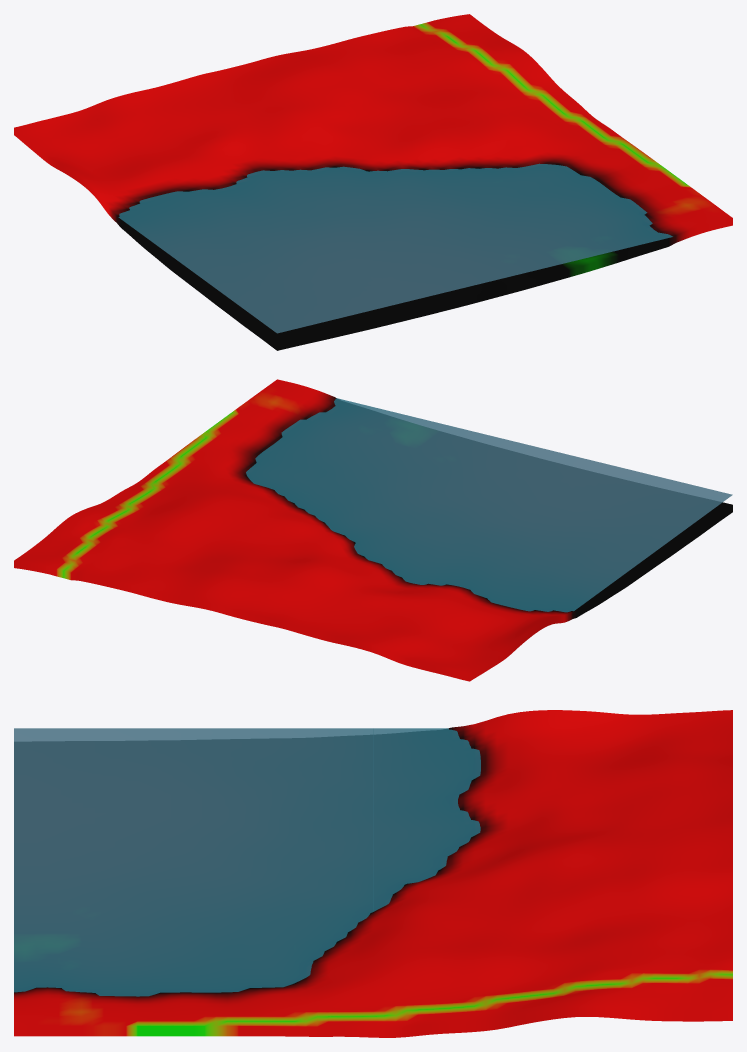
File: chunk_2_5.glb
3 views of the same model, one above another, from view 1: azimuth 30°, elevation 25°; view 2: azimuth 150°, elevation 25°; view 3: azimuth 270°, elevation 25° (orthographic). The views are drawn at different scales.
Visible parts, largest first — view 1: LOD0, Water; view 2: LOD0, Water; view 3: LOD0, Water.
Boxes of the visible parts, <box> form: LOD0: <box>14,14,732,350</box>; Water: <box>118,163,672,333</box>; LOD0: <box>14,379,732,681</box>; Water: <box>246,398,732,612</box>; LOD0: <box>14,710,732,1037</box>; Water: <box>14,728,480,996</box>.
Size of what is drawn, in the model's own units: 256 by 22.4 by 256.
